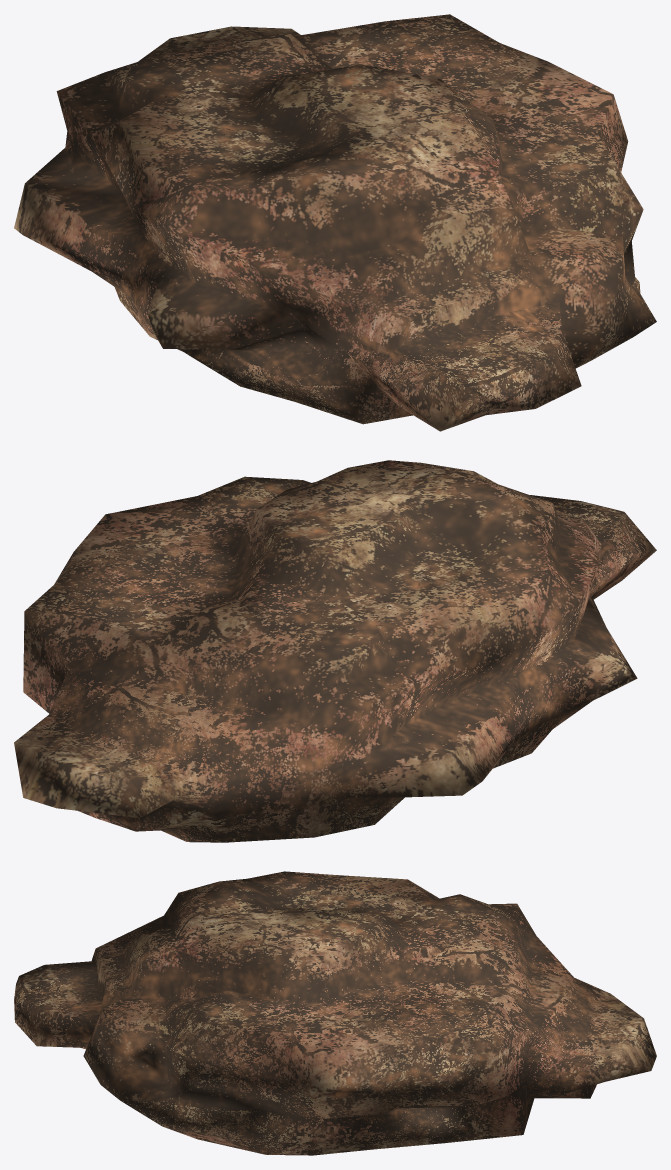
File: Rock1.fbx
3 renders of one model, top to bottom at view 1: azimuth 30°, elevation 25°; view 2: azimuth 150°, elevation 25°; view 3: azimuth 270°, elevation 25°, orthographic. The views are drawn at different scales.
Parts seen in each view (by area): view 1: Mesh; view 2: Mesh; view 3: Mesh.
Boxes of the visible parts, x1,y1,x2,y2 form: Mesh: [14, 14, 656, 431]; Mesh: [14, 460, 656, 842]; Mesh: [14, 871, 656, 1155].
Size of the model in its own units: 145 by 63.99 by 214.
